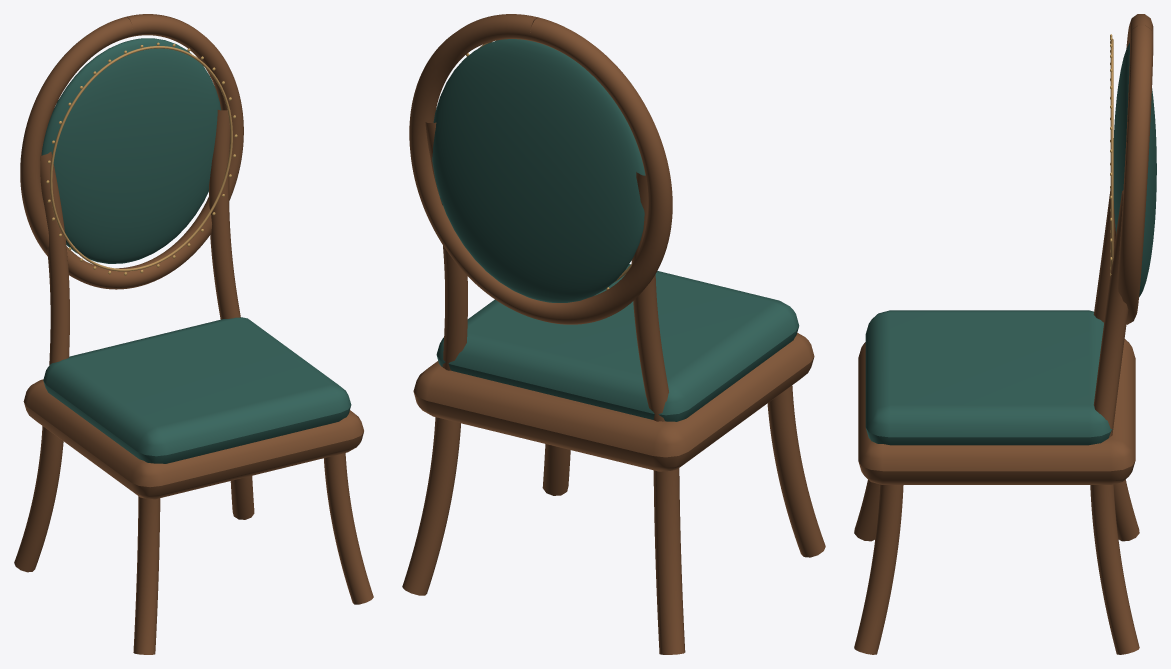
File: Chair.fbx
The picture shows the model from 3 angles, left to right: view 1: azimuth 30°, elevation 25°; view 2: azimuth 150°, elevation 25°; view 3: azimuth 270°, elevation 25°; orthographic projection. The views are drawn at different scales.
Parts seen in each view (by area): view 1: Tailored forest velvet seat, Rounded seat apron, Upholstery piping; view 2: Tailored forest velvet seat, Rounded seat apron; view 3: Rounded seat apron, Tailored forest velvet seat, Upholstery piping.
Part boxes in pixels (x1,y1,x2,y2): Tailored forest velvet seat: (41,38,351,463); Rounded seat apron: (14,14,373,654); Upholstery piping: (50,46,232,271); Tailored forest velvet seat: (432,39,799,421); Rounded seat apron: (402,14,825,654); Rounded seat apron: (854,14,1153,654); Tailored forest velvet seat: (865,43,1156,445); Upholstery piping: (1110,38,1113,272).
Bounding box in the file's own units: 61.9 × 129 × 62.26.
